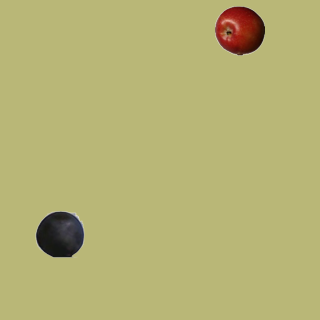Apple Braeburn: (214, 5, 264, 55)
Grape Blue: (34, 208, 84, 258)
